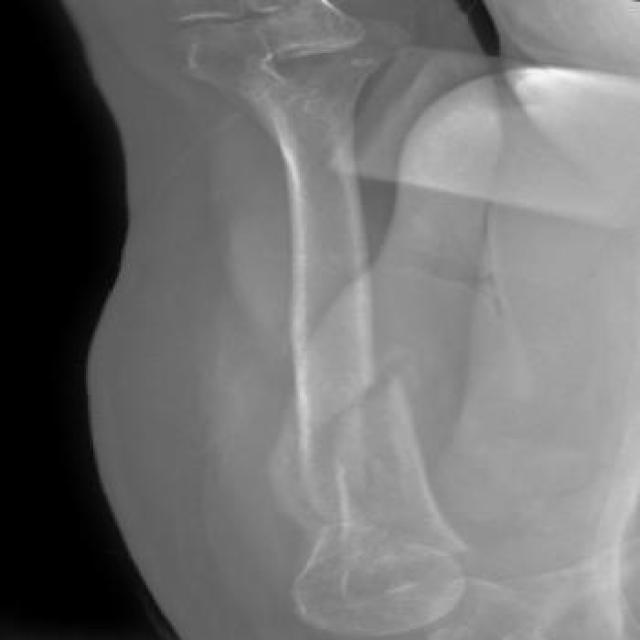fracture: (277, 364, 431, 444), (277, 254, 400, 346)
